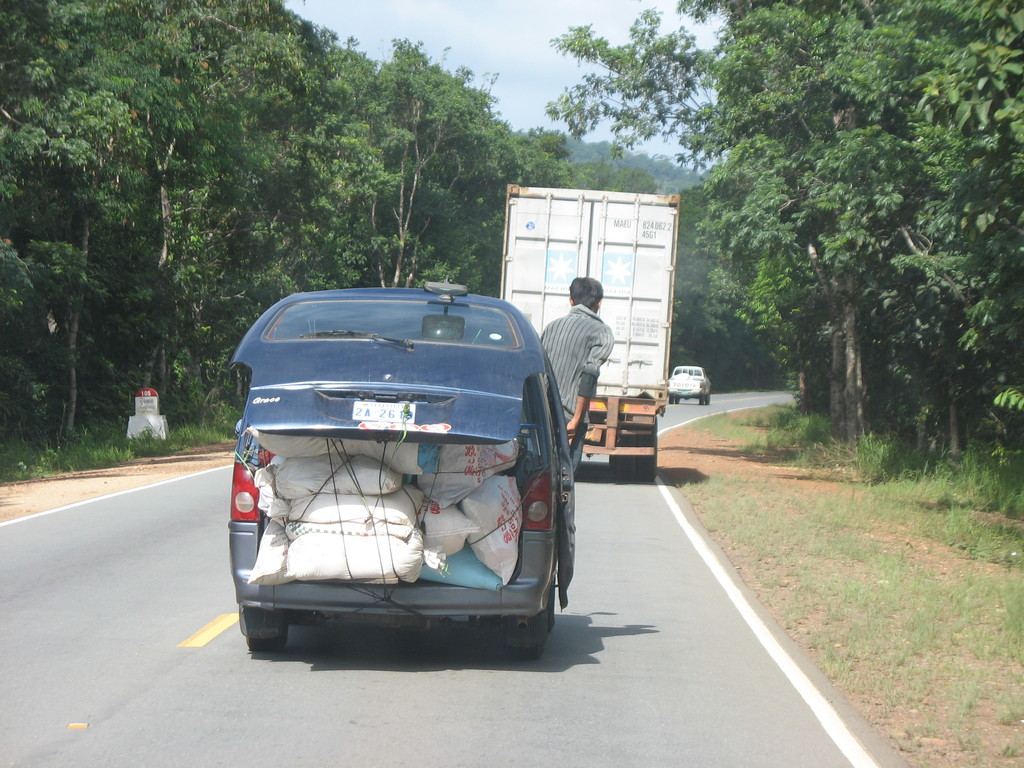Car: (211, 280, 572, 665)
